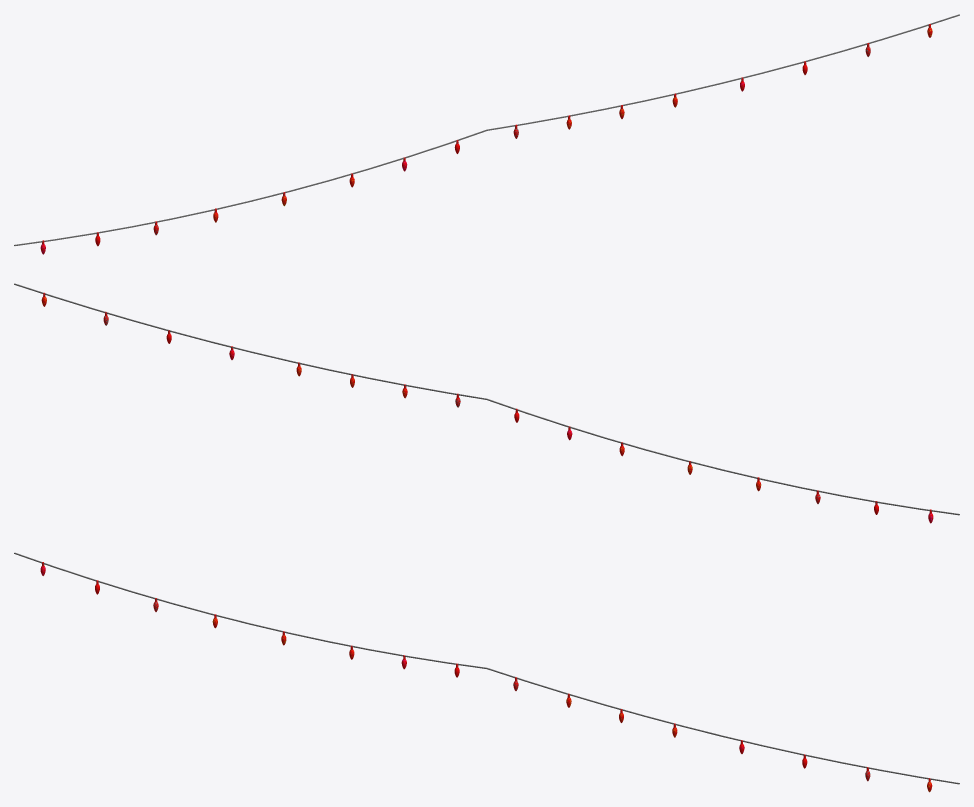
The model's file is Lights.fbx.
3 renders of one model, top to bottom at view 1: azimuth 30°, elevation 25°; view 2: azimuth 150°, elevation 25°; view 3: azimuth 330°, elevation 25°, orthographic.
Parts seen in each view (by area): view 1: SketchUp; view 2: SketchUp; view 3: SketchUp.
Boxes of the visible parts, x1,y1,x2,y2 form: SketchUp: [14, 14, 959, 245]; SketchUp: [14, 283, 959, 515]; SketchUp: [14, 552, 959, 784].
Bounding box in the file's own units: 367 × 9.97 × 1.85.
